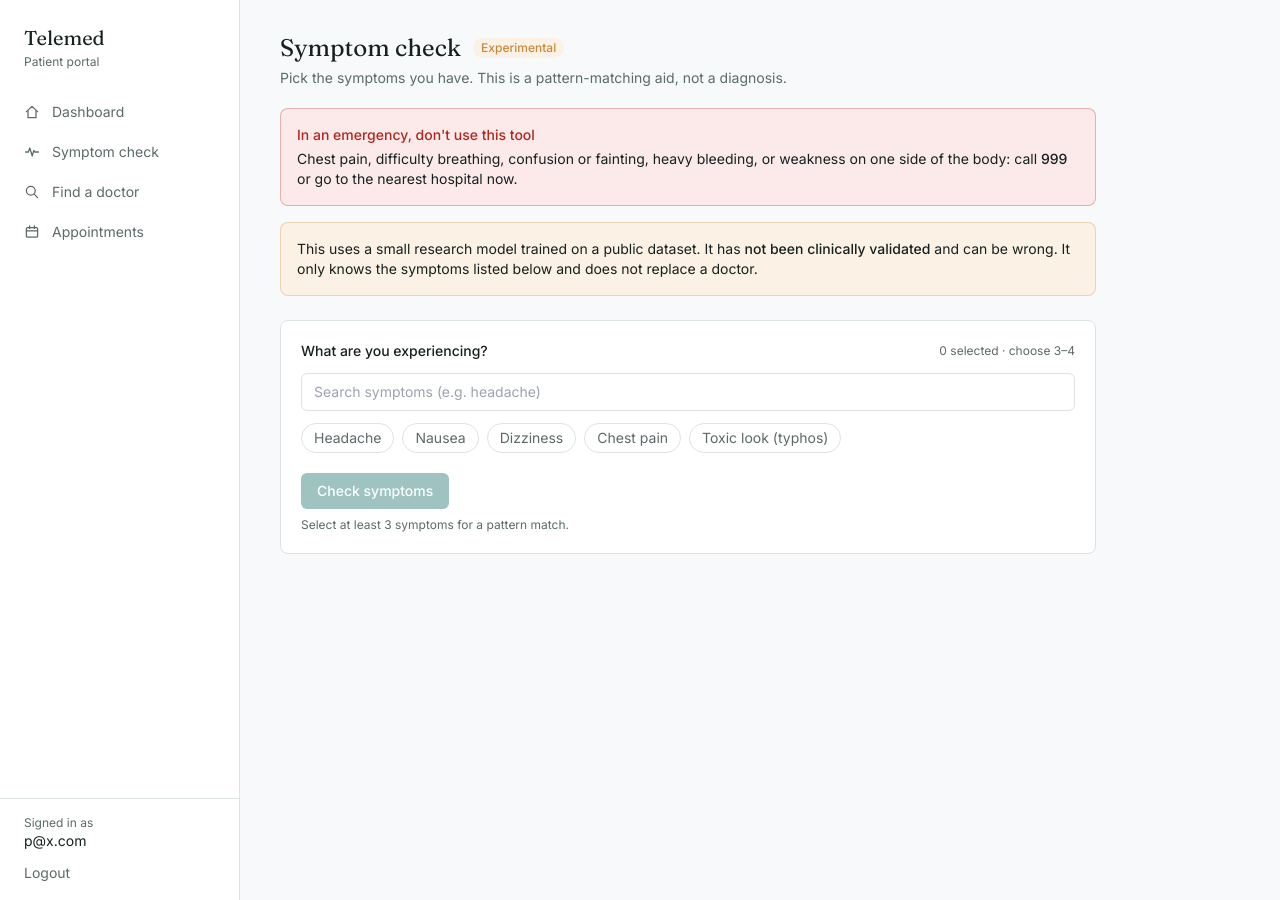
Test: SymptomAssessment › enforces the maximum
Click the button "Headache" at (348, 438), box x1=301 y1=423 x2=394 y2=453
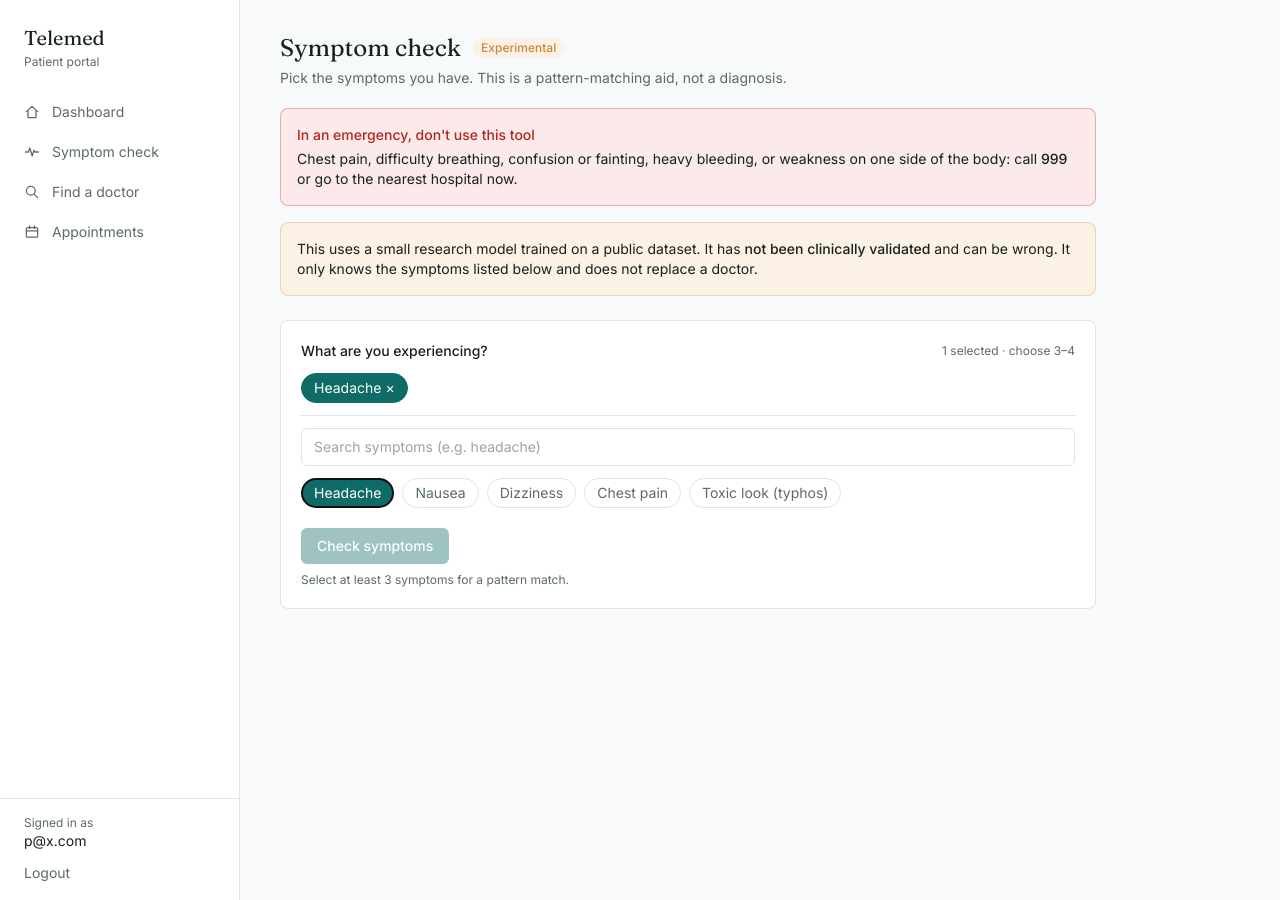
Click the button "Nausea" at (441, 493), box x1=402 y1=478 x2=479 y2=508
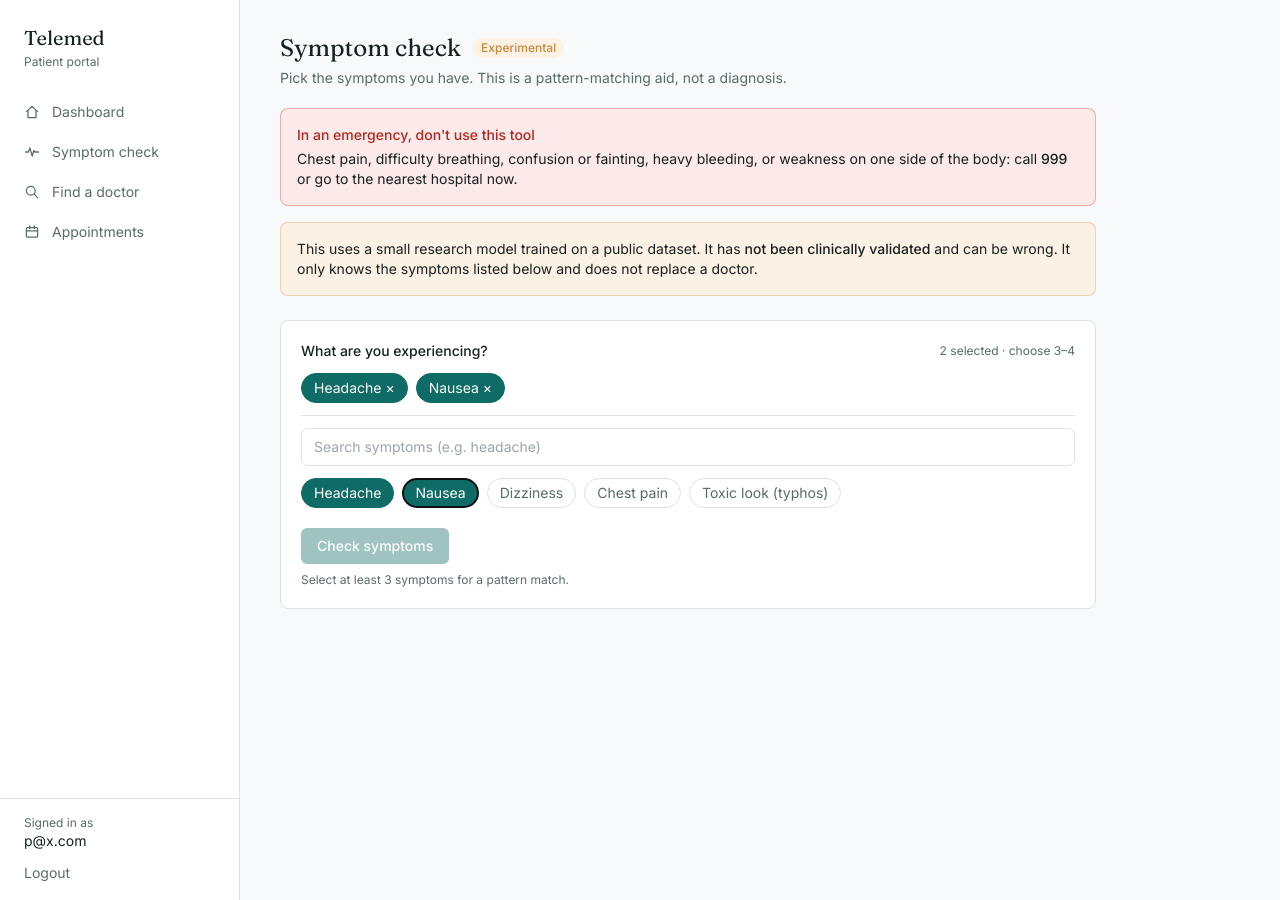
Click the button "Dizziness" at (532, 493), box x1=487 y1=478 x2=576 y2=508
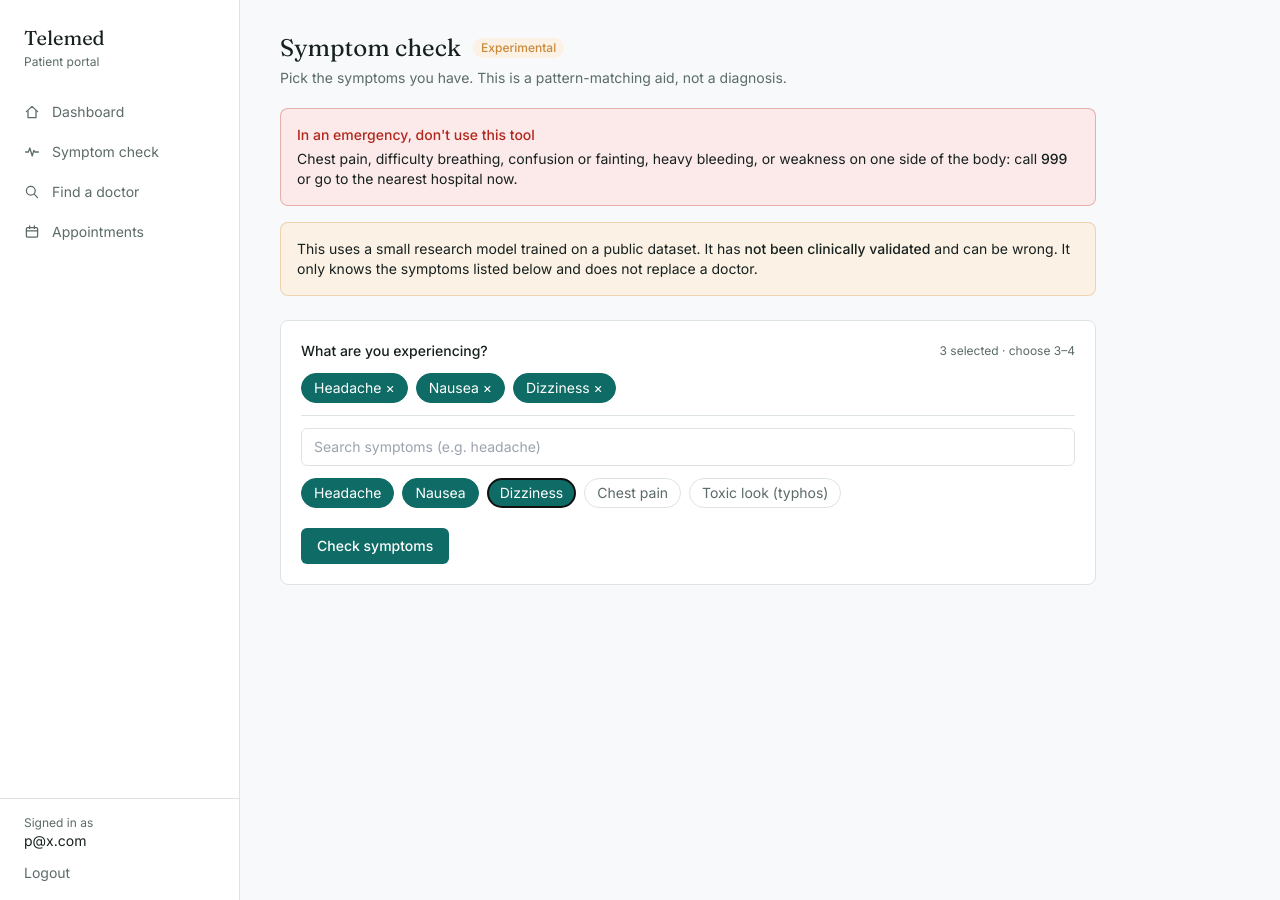
Click the button "Chest pain" at (633, 493), box x1=584 y1=478 x2=681 y2=508
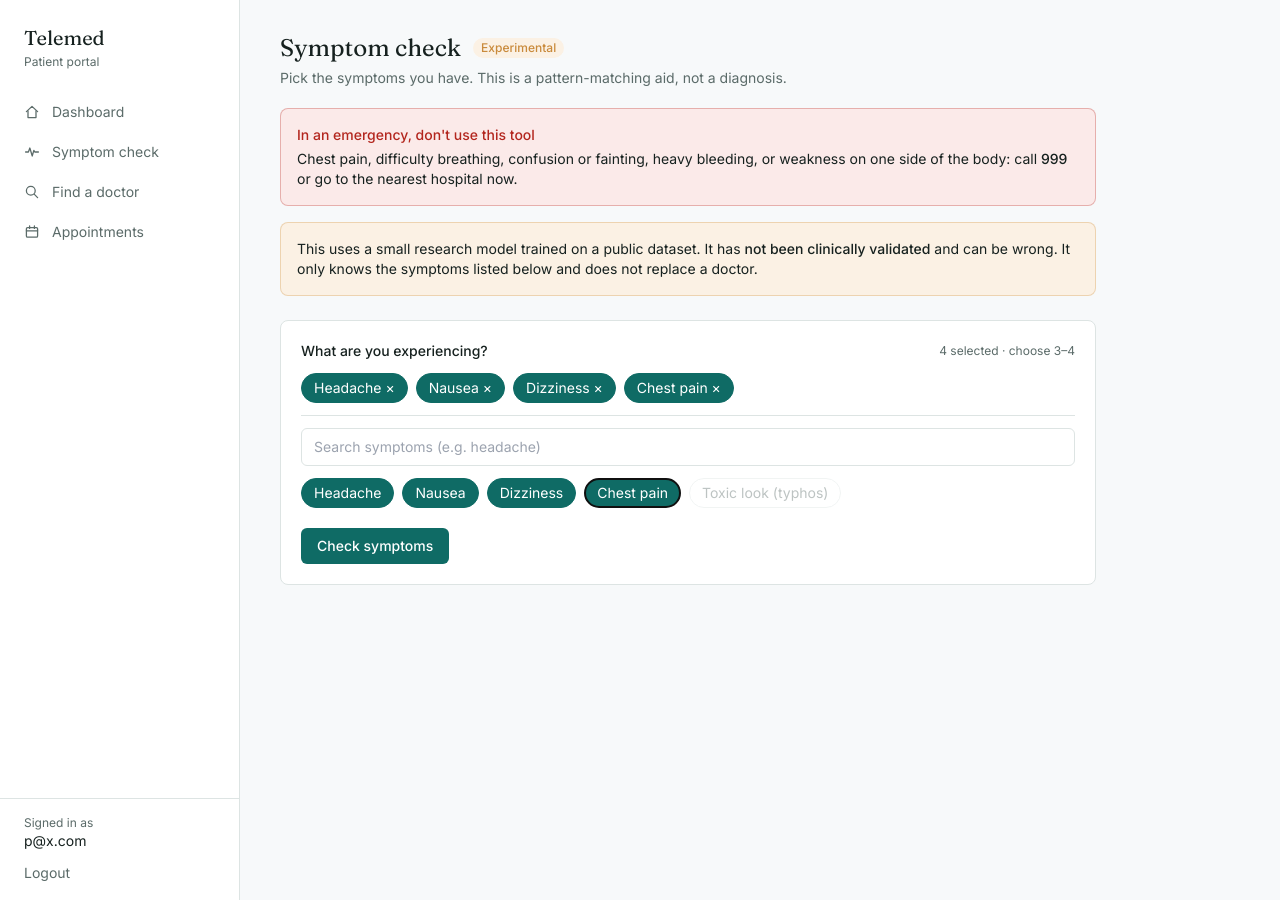
Now the button "Toxic look (typhos)" is disabled, box x1=689 y1=478 x2=842 y2=508
